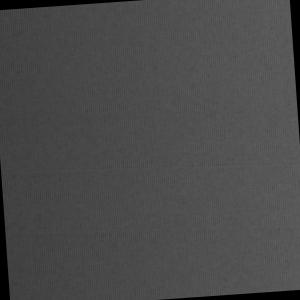Wrinkle: (1, 140, 300, 191), (6, 210, 150, 257)
